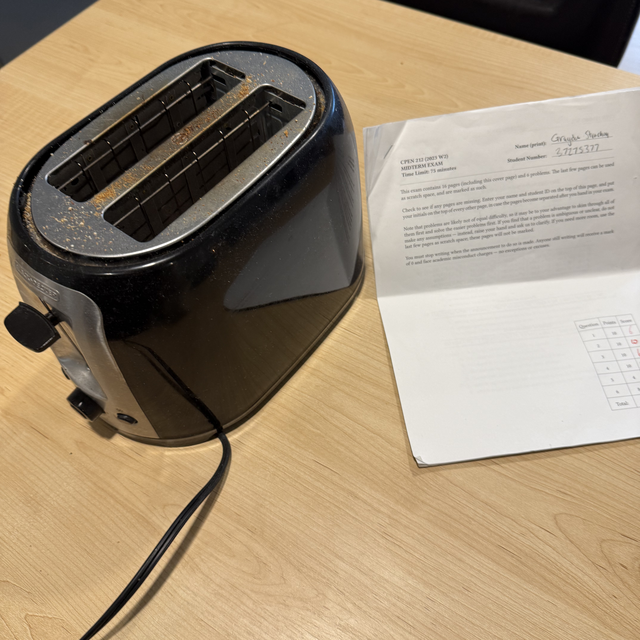Paper: (356, 86, 640, 464)
Toaster: (1, 39, 365, 457)
